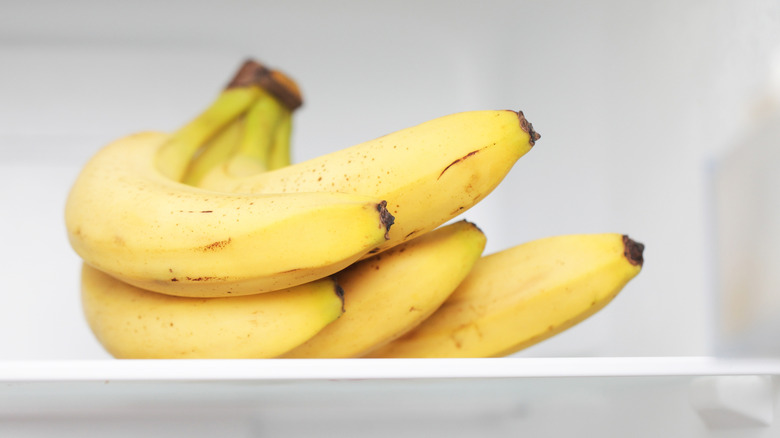banana: (64, 59, 663, 360)
